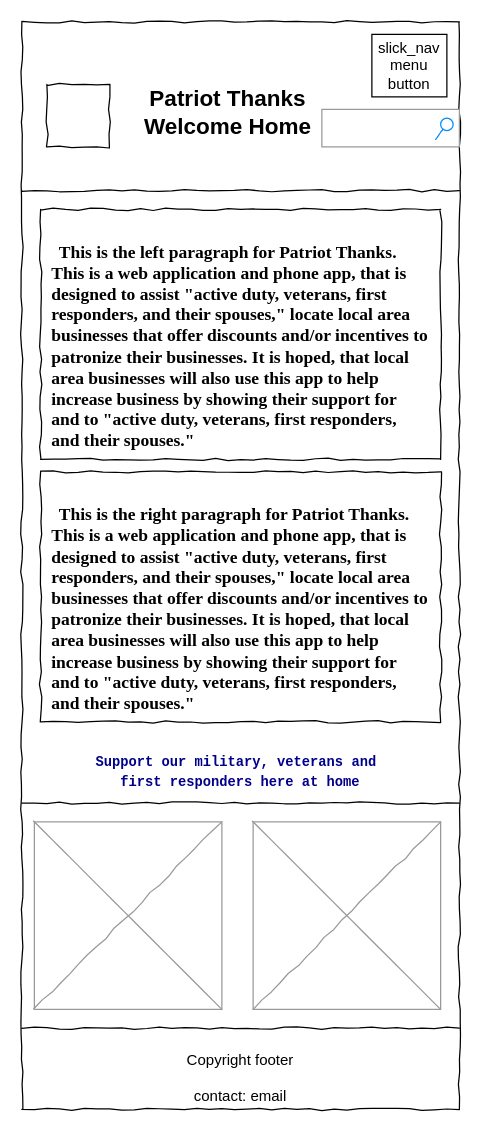
Some shapes in this 481 by 1144 pixel diagram are drawn without their labels. The centre of each missing label's shape, as x and y in pixels:
"LOGO" belongs at point (77, 115).
"Search" belongs at point (390, 127).
